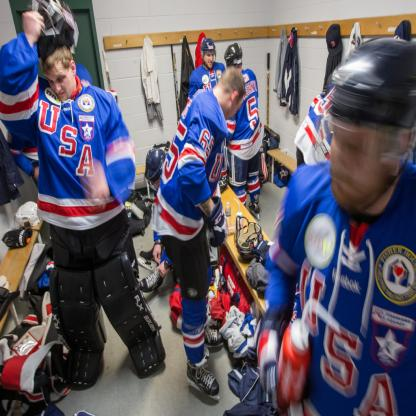Helmet: (315, 31, 410, 216), (27, 0, 81, 60), (234, 217, 262, 261), (146, 144, 165, 186), (223, 43, 244, 69), (200, 38, 216, 71)
